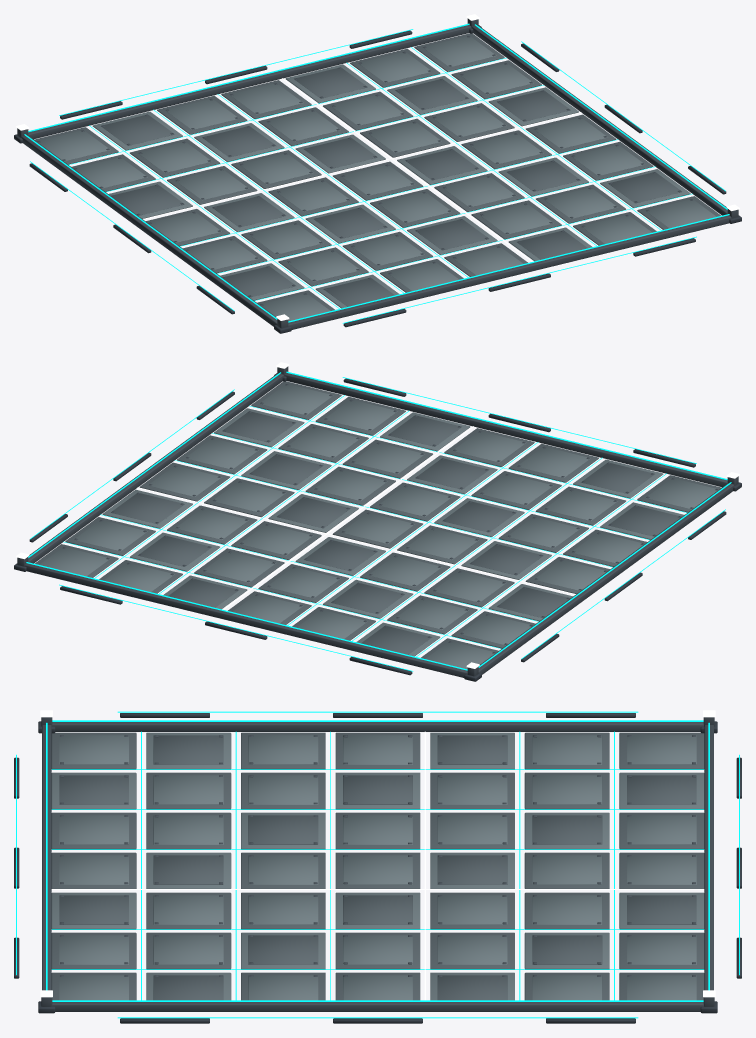
The model's file is sector_1_neon_grid_arena.glb.
3 renders of one model, top to bottom at view 1: azimuth 30°, elevation 25°; view 2: azimuth 150°, elevation 25°; view 3: azimuth 270°, elevation 25°, orthographic. The views are drawn at different scales.
Parts seen in each view (by area): view 1: Sector1BlenderNorthRaisedBorderWall, Sector1BlenderSouthRaisedBorderWall, Sector1BlenderWestRaisedBorderWall, Sector1BlenderEastRaisedBorderWall, Sector1BlenderInsetPlateR5C2, Sector1BlenderInsetPlateR6C3, Sector1BlenderInsetPlateR1C6, Sector1BlenderInsetPlateR3C1, Sector1BlenderInsetPlateR3C4, Sector1BlenderInsetPlateR1C3, Sector1BlenderInsetPlateR4C4, Sector1BlenderInsetPlateR4C5 (+88 smaller); view 2: Sector1BlenderSouthRaisedBorderWall, Sector1BlenderNorthRaisedBorderWall, Sector1BlenderWestRaisedBorderWall, Sector1BlenderEastRaisedBorderWall, Sector1BlenderInsetPlateR0C3, Sector1BlenderInsetPlateR1C2, Sector1BlenderInsetPlateR3C1, Sector1BlenderInsetPlateR3C4, Sector1BlenderInsetPlateR5C6, Sector1BlenderInsetPlateR0C2, Sector1BlenderInsetPlateR0C6, Sector1BlenderInsetPlateR1C3 (+88 smaller); view 3: Sector1BlenderEastRaisedBorderWall, Sector1BlenderWestRaisedBorderWall, Sector1BlenderNorthRaisedBorderWall, Sector1BlenderSouthRaisedBorderWall, Sector1BlenderInsetPlateR2C0, Sector1BlenderInsetPlateR2C1, Sector1BlenderInsetPlateR2C2, Sector1BlenderInsetPlateR2C3, Sector1BlenderInsetPlateR2C4, Sector1BlenderInsetPlateR2C5, Sector1BlenderInsetPlateR4C0, Sector1BlenderInsetPlateR4C1 (+108 smaller).
Part boxes in pixels (bbox=[...]): Sector1BlenderNorthRaisedBorderWall: bbox=[288, 215, 731, 329]; Sector1BlenderSouthRaisedBorderWall: bbox=[28, 25, 471, 139]; Sector1BlenderWestRaisedBorderWall: bbox=[21, 135, 277, 326]; Sector1BlenderEastRaisedBorderWall: bbox=[472, 25, 727, 215]; Sector1BlenderInsetPlateR5C2: bbox=[202, 126, 276, 157]; Sector1BlenderInsetPlateR6C3: bbox=[229, 83, 303, 114]; Sector1BlenderInsetPlateR1C6: bbox=[608, 172, 682, 203]; Sector1BlenderInsetPlateR3C1: bbox=[212, 196, 286, 227]; Sector1BlenderInsetPlateR3C4: bbox=[405, 149, 479, 180]; Sector1BlenderInsetPlateR1C3: bbox=[415, 219, 489, 250]; Sector1BlenderInsetPlateR4C4: bbox=[368, 122, 442, 153]; Sector1BlenderInsetPlateR4C5: bbox=[432, 106, 506, 137]; Sector1BlenderSouthRaisedBorderWall: bbox=[24, 563, 467, 677]; Sector1BlenderNorthRaisedBorderWall: bbox=[284, 373, 727, 487]; Sector1BlenderWestRaisedBorderWall: bbox=[478, 483, 734, 674]; Sector1BlenderEastRaisedBorderWall: bbox=[28, 373, 283, 563]; Sector1BlenderInsetPlateR0C3: bbox=[452, 431, 526, 462]; Sector1BlenderInsetPlateR1C2: bbox=[479, 474, 553, 505]; Sector1BlenderInsetPlateR3C1: bbox=[469, 544, 543, 575]; Sector1BlenderInsetPlateR3C4: bbox=[276, 497, 350, 528]; Sector1BlenderInsetPlateR5C6: bbox=[73, 520, 147, 551]; Sector1BlenderInsetPlateR0C2: bbox=[516, 447, 590, 478]; Sector1BlenderInsetPlateR0C6: bbox=[259, 384, 333, 415]; Sector1BlenderInsetPlateR1C3: bbox=[415, 458, 489, 489]; Sector1BlenderEastRaisedBorderWall: bbox=[52, 1002, 703, 1011]; Sector1BlenderWestRaisedBorderWall: bbox=[52, 722, 703, 731]; Sector1BlenderNorthRaisedBorderWall: bbox=[42, 725, 51, 990]; Sector1BlenderSouthRaisedBorderWall: bbox=[704, 725, 713, 990]; Sector1BlenderInsetPlateR2C0: bbox=[248, 735, 318, 764]; Sector1BlenderInsetPlateR2C1: bbox=[248, 775, 318, 804]; Sector1BlenderInsetPlateR2C2: bbox=[248, 815, 318, 844]; Sector1BlenderInsetPlateR2C3: bbox=[248, 855, 318, 884]; Sector1BlenderInsetPlateR2C4: bbox=[248, 895, 318, 924]; Sector1BlenderInsetPlateR2C5: bbox=[248, 935, 318, 964]; Sector1BlenderInsetPlateR4C0: bbox=[437, 735, 507, 764]; Sector1BlenderInsetPlateR4C1: bbox=[437, 775, 507, 804].
Bounding box in the file's own units: 61.54 × 1.79 × 61.54.
